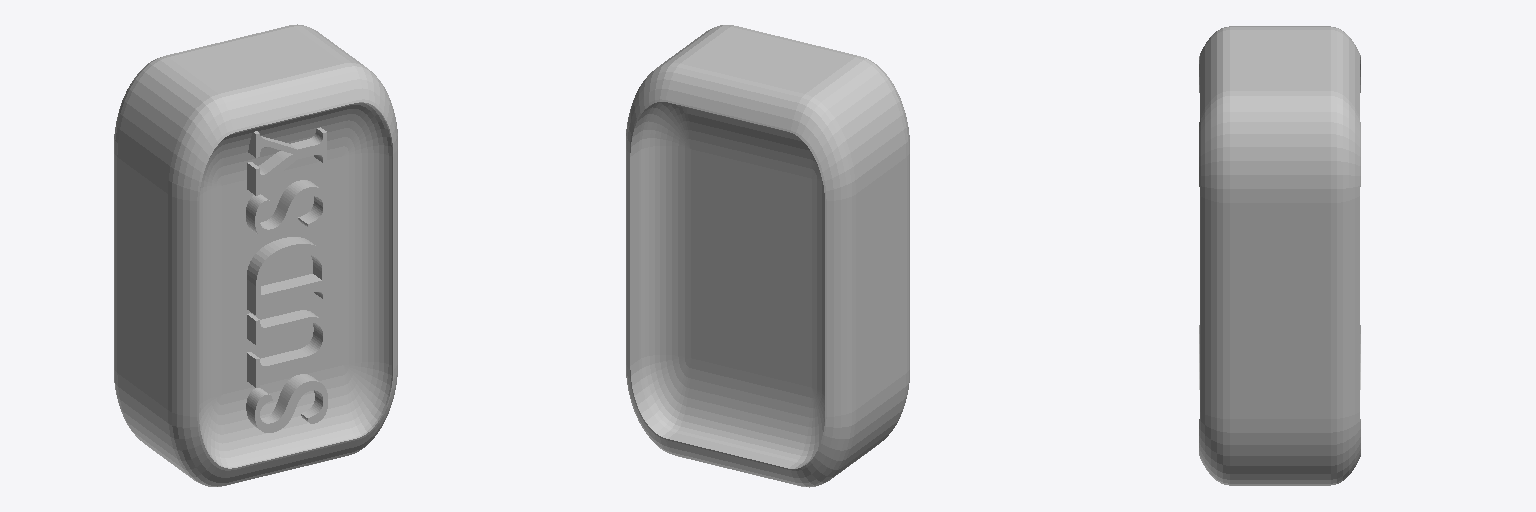
The model's file is soap bar 2.obj.
3 renders of one model, left to right at view 1: azimuth 30°, elevation 25°; view 2: azimuth 150°, elevation 25°; view 3: azimuth 270°, elevation 25°, orthographic.
Parts seen in each view (by area): view 1: obj_0; view 2: obj_0; view 3: obj_0.
Part boxes in pixels (left/top/right/bottom): obj_0: left=114, top=24, right=397, bottom=486; obj_0: left=626, top=25, right=909, bottom=487; obj_0: left=1199, top=26, right=1360, bottom=485.
Bounding box in the file's own units: 92.12 × 152 × 56.93.